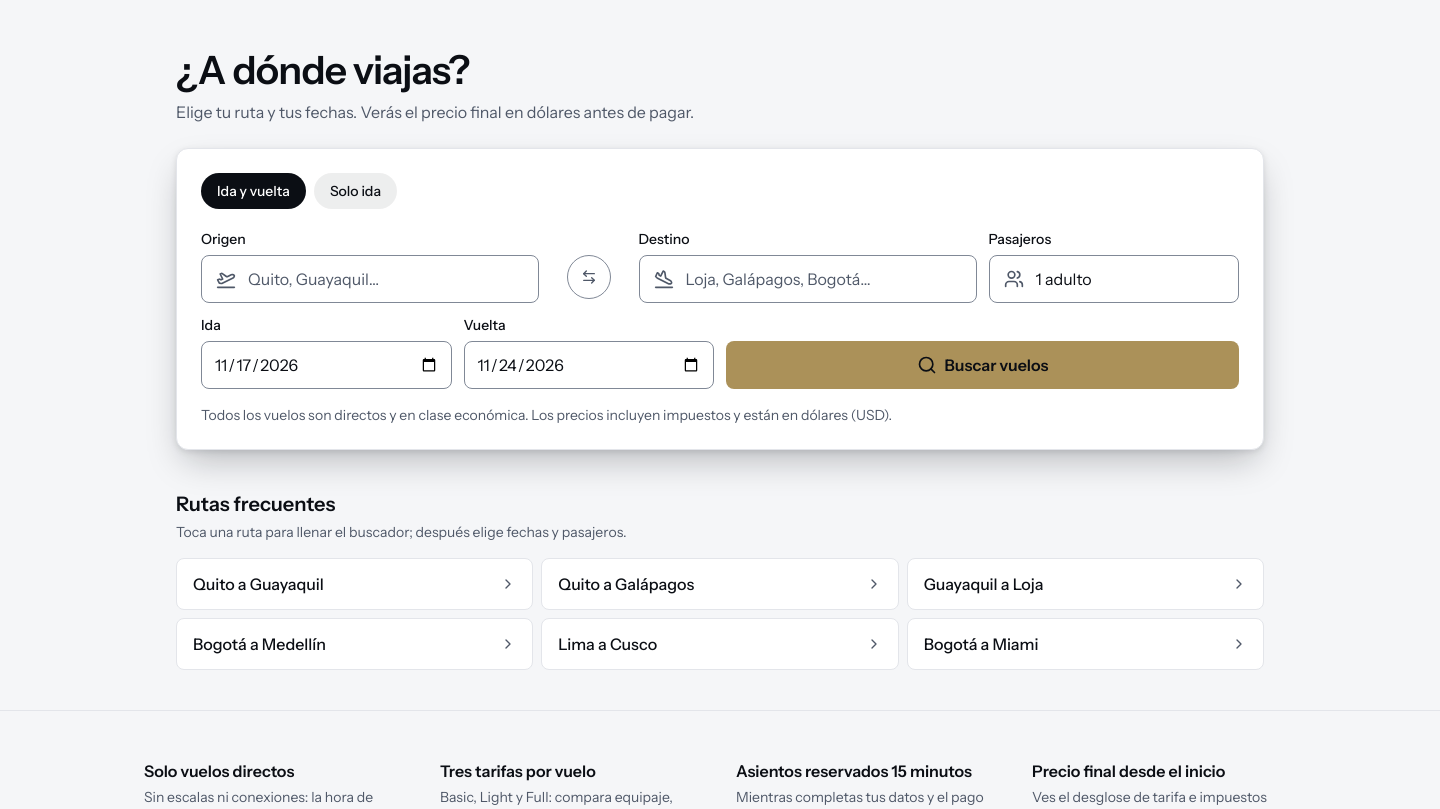
Test: Home: the search is the hero › explains what is missing next to the field, without browser bubbles
Click the button "Buscar vuelos".
click(982, 365)  # box [726, 341, 1239, 389]
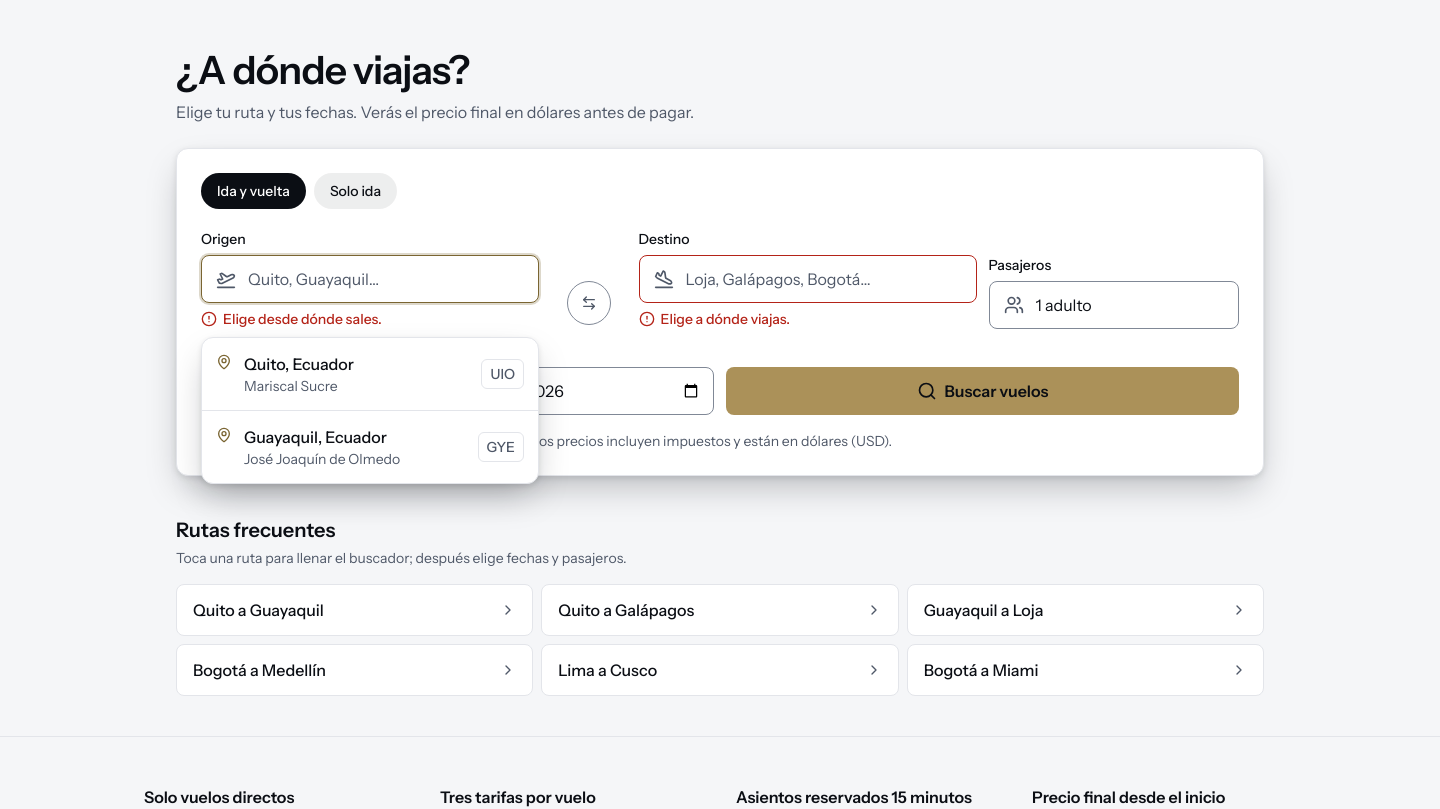
Expected: the text "Elige desde dónde sales." is shown, [201, 310, 382, 328]
Expected: the text "Elige a dónde viajas." is shown, [638, 310, 790, 328]
